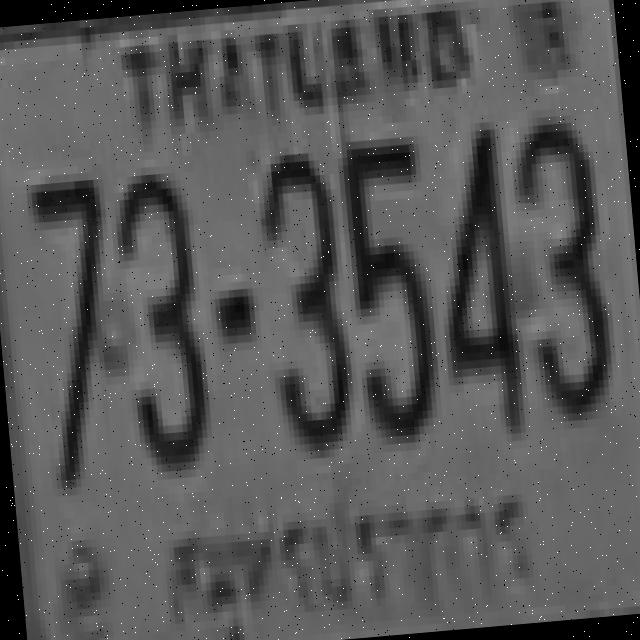3: (106, 164, 210, 466), (250, 147, 352, 450), (508, 110, 610, 412)
4: (426, 121, 524, 431)
5: (336, 128, 438, 439)
7: (25, 172, 123, 482), (25, 171, 114, 375)
SamutPrakan: (154, 475, 542, 638)
